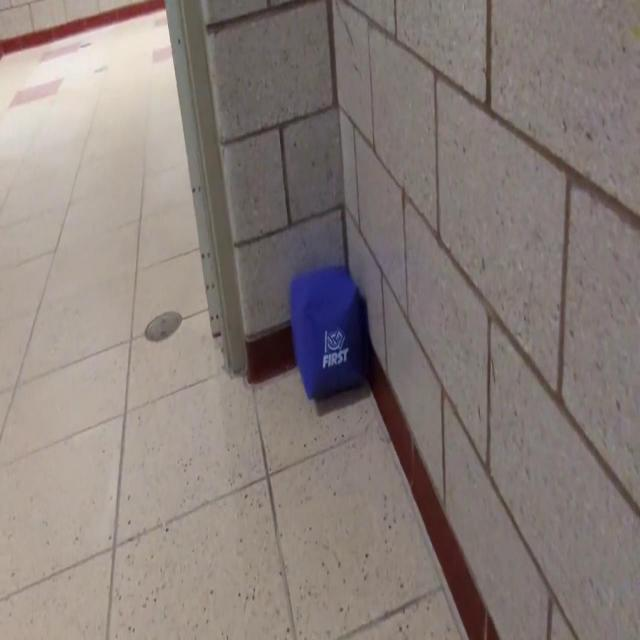frc_cube: (291, 265, 364, 403)
